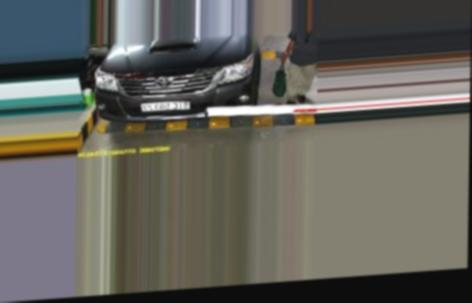License_Plate: (142, 98, 192, 115)
